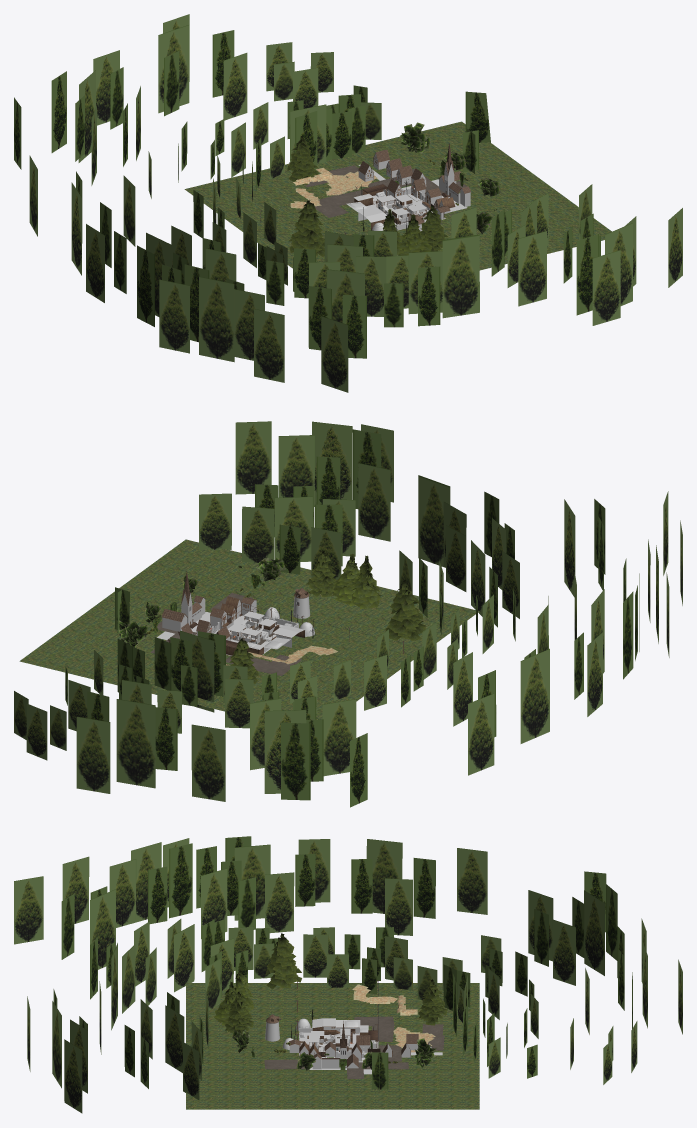
3 renders of one model, top to bottom at view 1: azimuth 30°, elevation 25°; view 2: azimuth 150°, elevation 25°; view 3: azimuth 270°, elevation 25°, orthographic. The views are drawn at different scales.
Parts seen in each view (by area): view 1: D1, Village, Decal; view 2: D1, Village, Decal; view 3: D1, Village, Decal.
Boxes of the visible parts, <box> form: D1: <box>14,14,682,392</box>; Village: <box>184,121,611,270</box>; Decal: <box>290,165,490,225</box>; D1: <box>14,421,682,807</box>; Village: <box>19,539,479,719</box>; Decal: <box>150,593,337,675</box>; D1: <box>14,836,682,1113</box>; Village: <box>186,980,479,1109</box>; Decal: <box>264,984,444,1079</box>.
Size of the model in its own units: 1.18 by 0.2057 by 1.58.
